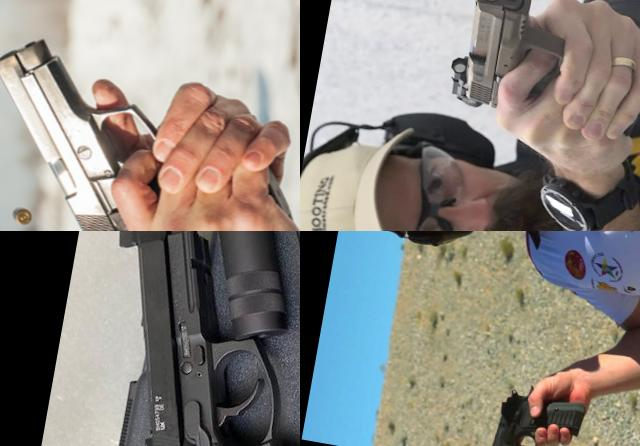handgun: (0, 23, 300, 231), (65, 231, 300, 446), (443, 0, 587, 124), (476, 374, 592, 446)
